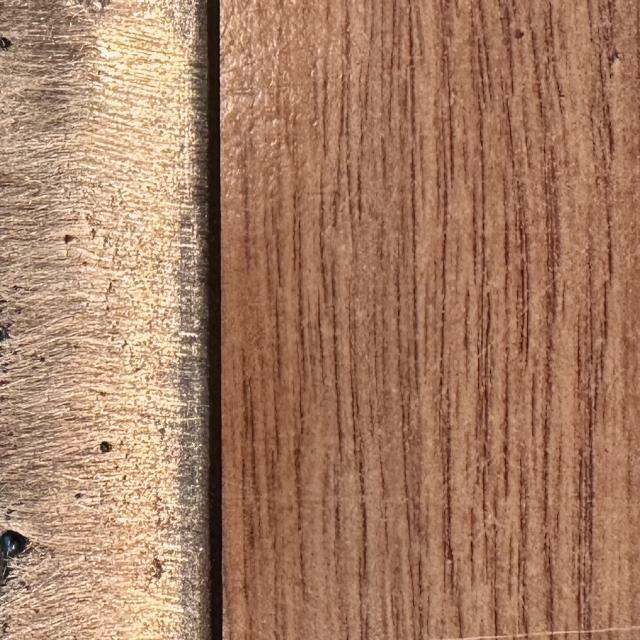Porosity: (1, 527, 29, 561), (99, 443, 112, 455), (59, 236, 73, 246)
